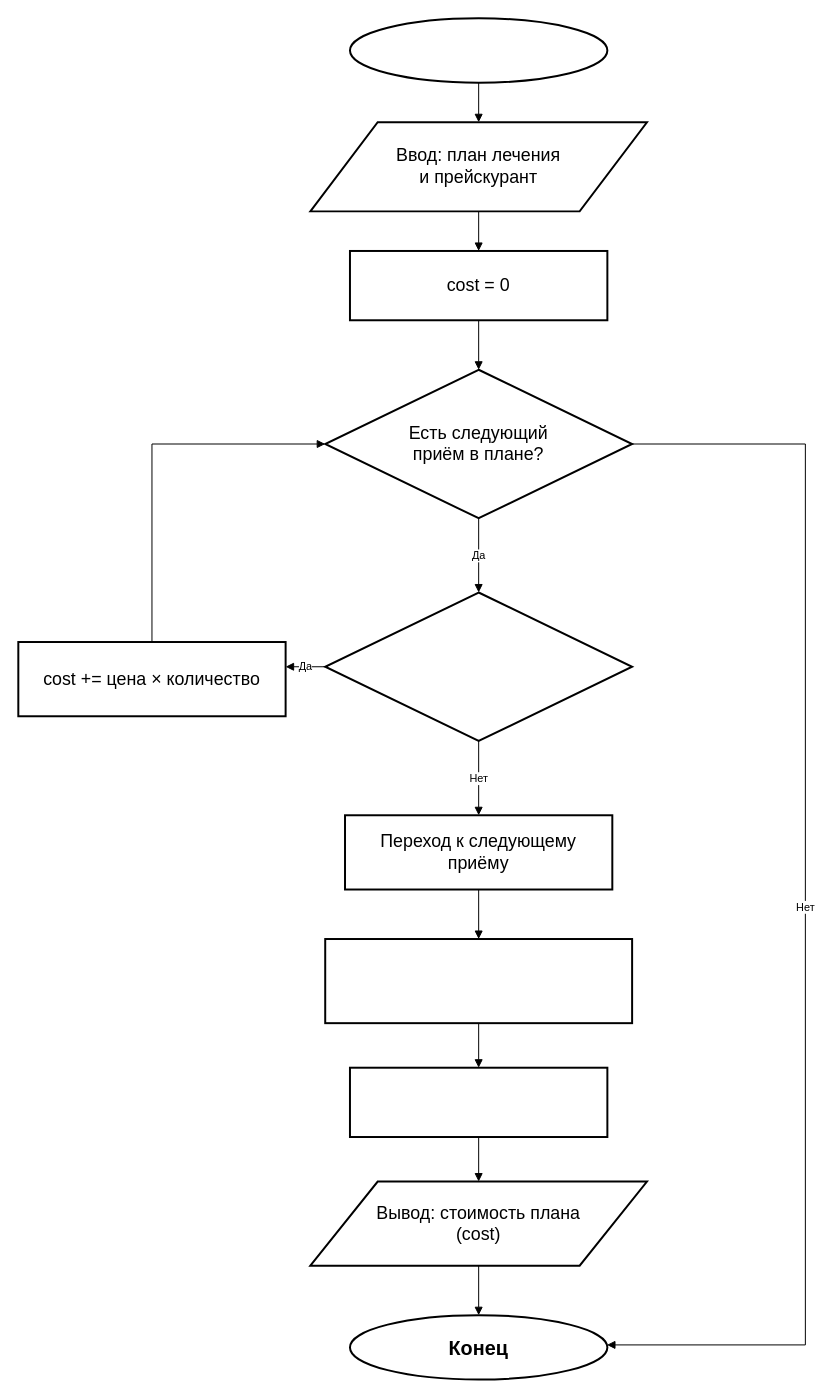
Image size: 832x1397. Some labels were removed from this diagram. Each missing label, with the box of its shape:
cost = cost × category_coef × (1 − discount / 100): (324, 938, 633, 1024)
Есть следующая услуга в приёме?: (324, 591, 633, 742)
Начало: (348, 17, 608, 83)
Округление до копеек: (348, 1066, 608, 1138)
